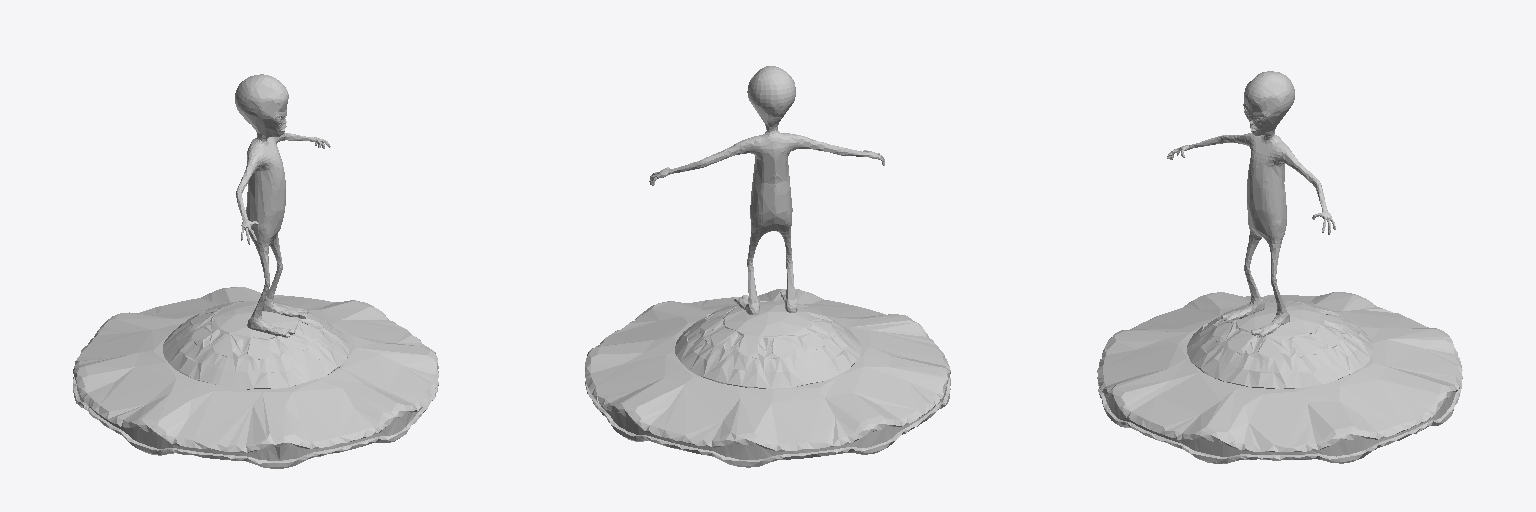
The model's file is frame_095.obj.
3 renders of one model, left to right at view 1: azimuth 30°, elevation 25°; view 2: azimuth 150°, elevation 25°; view 3: azimuth 270°, elevation 25°, orthographic.
Parts seen in each view (by area): view 1: 13884_UFO_Saucer_v1_l2, 10469_GrayAlien_v01; view 2: 13884_UFO_Saucer_v1_l2, 10469_GrayAlien_v01; view 3: 13884_UFO_Saucer_v1_l2, 10469_GrayAlien_v01.
Part boxes in pixels (bbox=[...]): 13884_UFO_Saucer_v1_l2: bbox=[73, 287, 438, 468]; 10469_GrayAlien_v01: bbox=[235, 74, 330, 337]; 13884_UFO_Saucer_v1_l2: bbox=[585, 289, 950, 467]; 10469_GrayAlien_v01: bbox=[649, 66, 884, 314]; 13884_UFO_Saucer_v1_l2: bbox=[1097, 292, 1462, 463]; 10469_GrayAlien_v01: bbox=[1167, 71, 1335, 337].
Bounding box in the file's own units: 12.69 × 14.05 × 12.7.